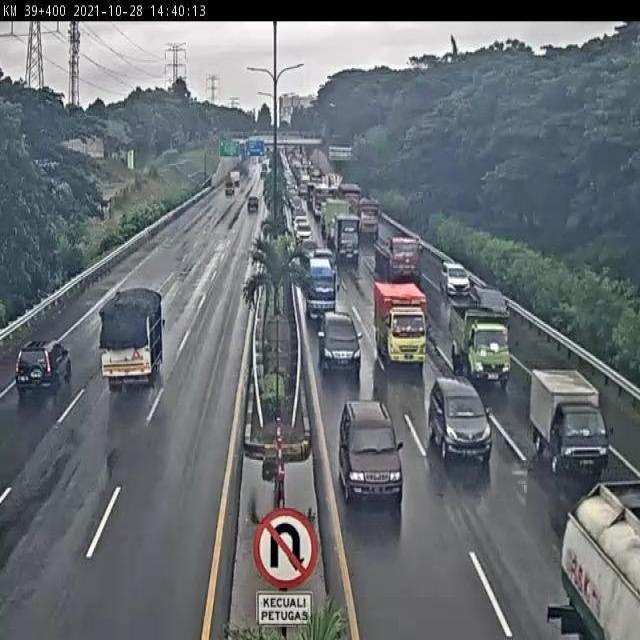car: (339, 400, 405, 505), (428, 375, 492, 460), (15, 339, 73, 395), (317, 306, 363, 374), (472, 284, 512, 328), (439, 262, 472, 298), (298, 236, 320, 264), (313, 248, 335, 269)
truck: (530, 367, 609, 473), (97, 288, 163, 388), (449, 307, 513, 388), (372, 280, 428, 367), (375, 236, 423, 287), (302, 253, 337, 320), (336, 213, 363, 264)
